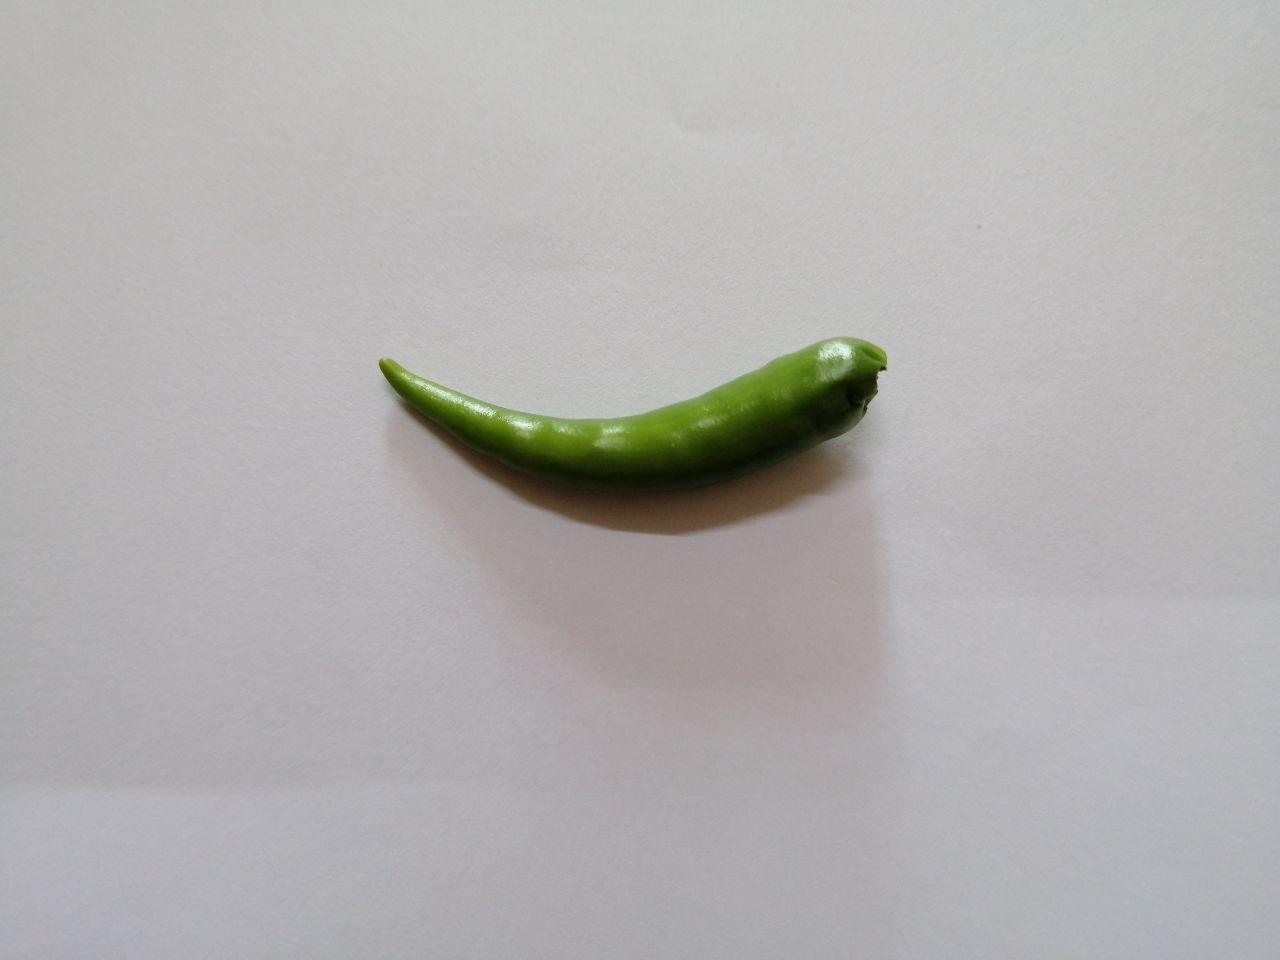lada hijau: (368, 325, 897, 511)
